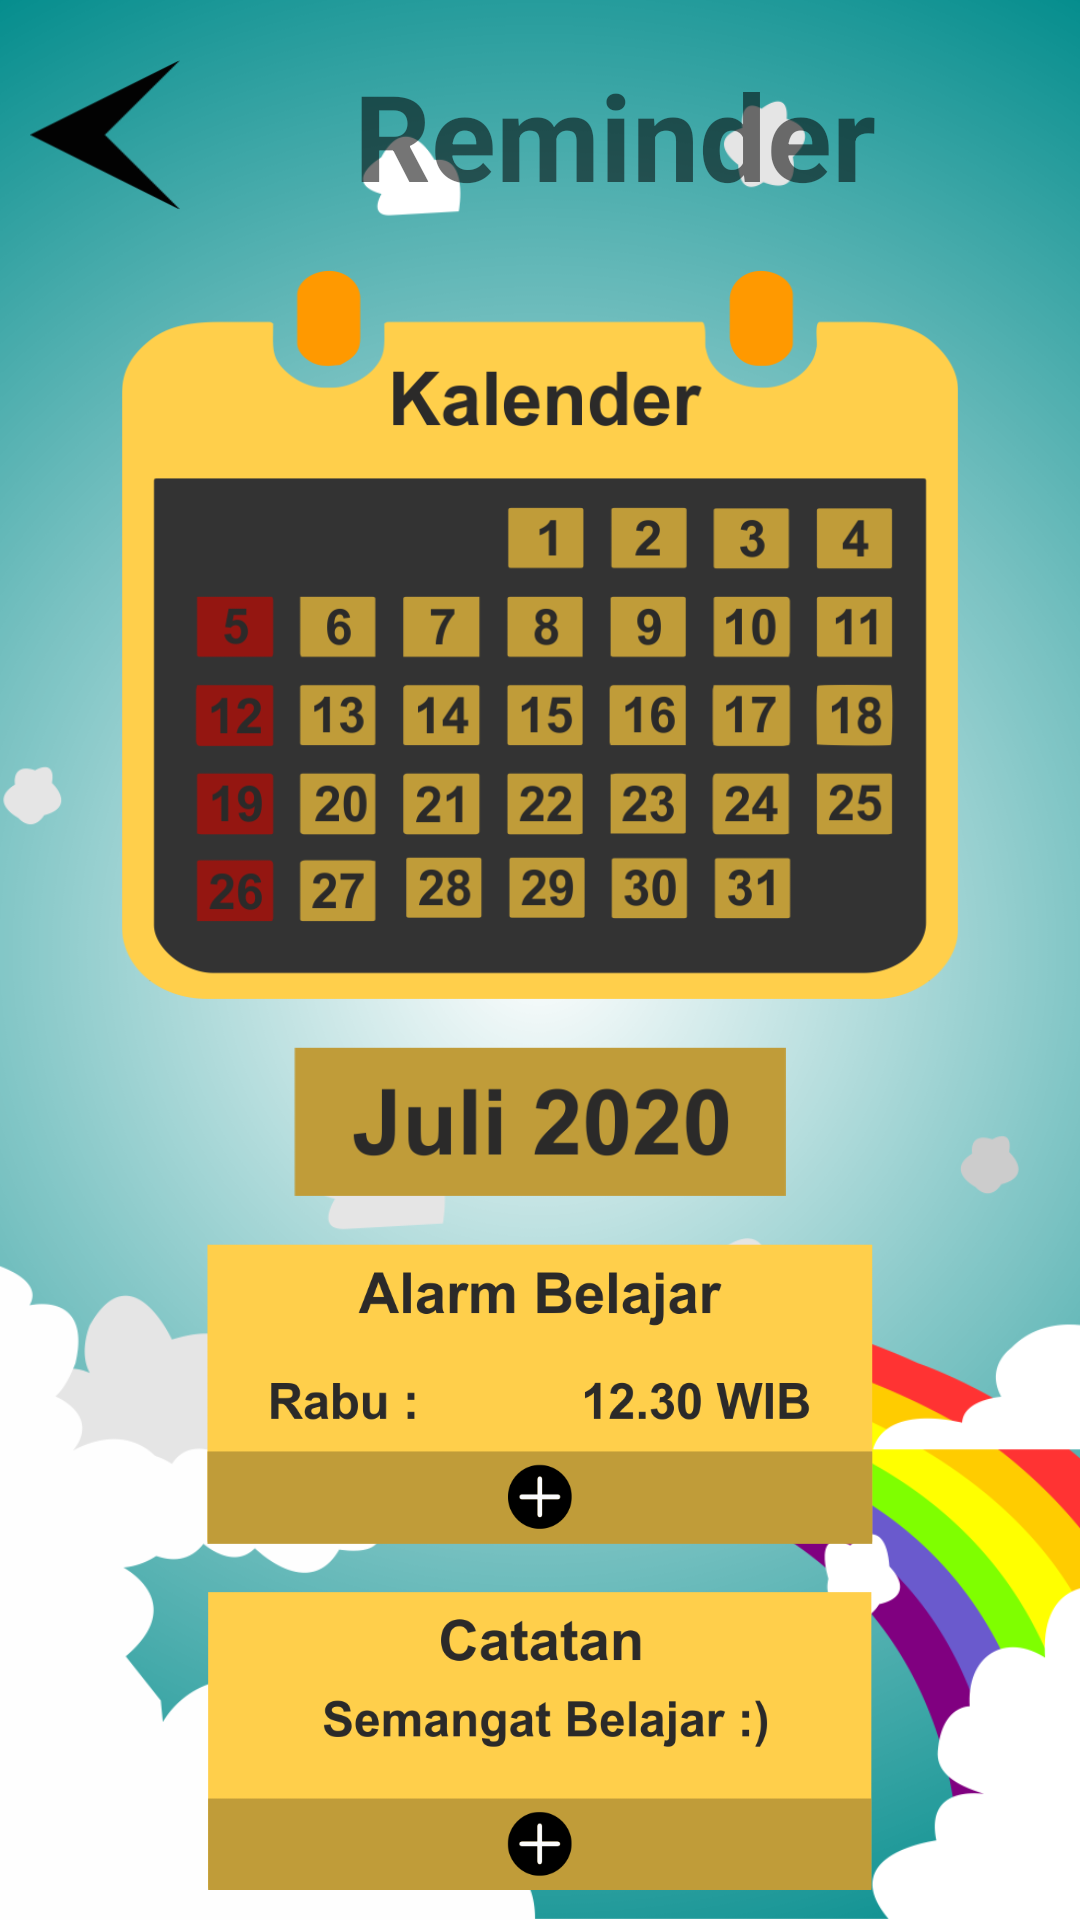

Where icons sit on this 1080 x 1920 app screen, as (x1=x1, y1=y1, x2=x2, y2=y2):
back: (x1=30, y1=60, x2=180, y2=209)
